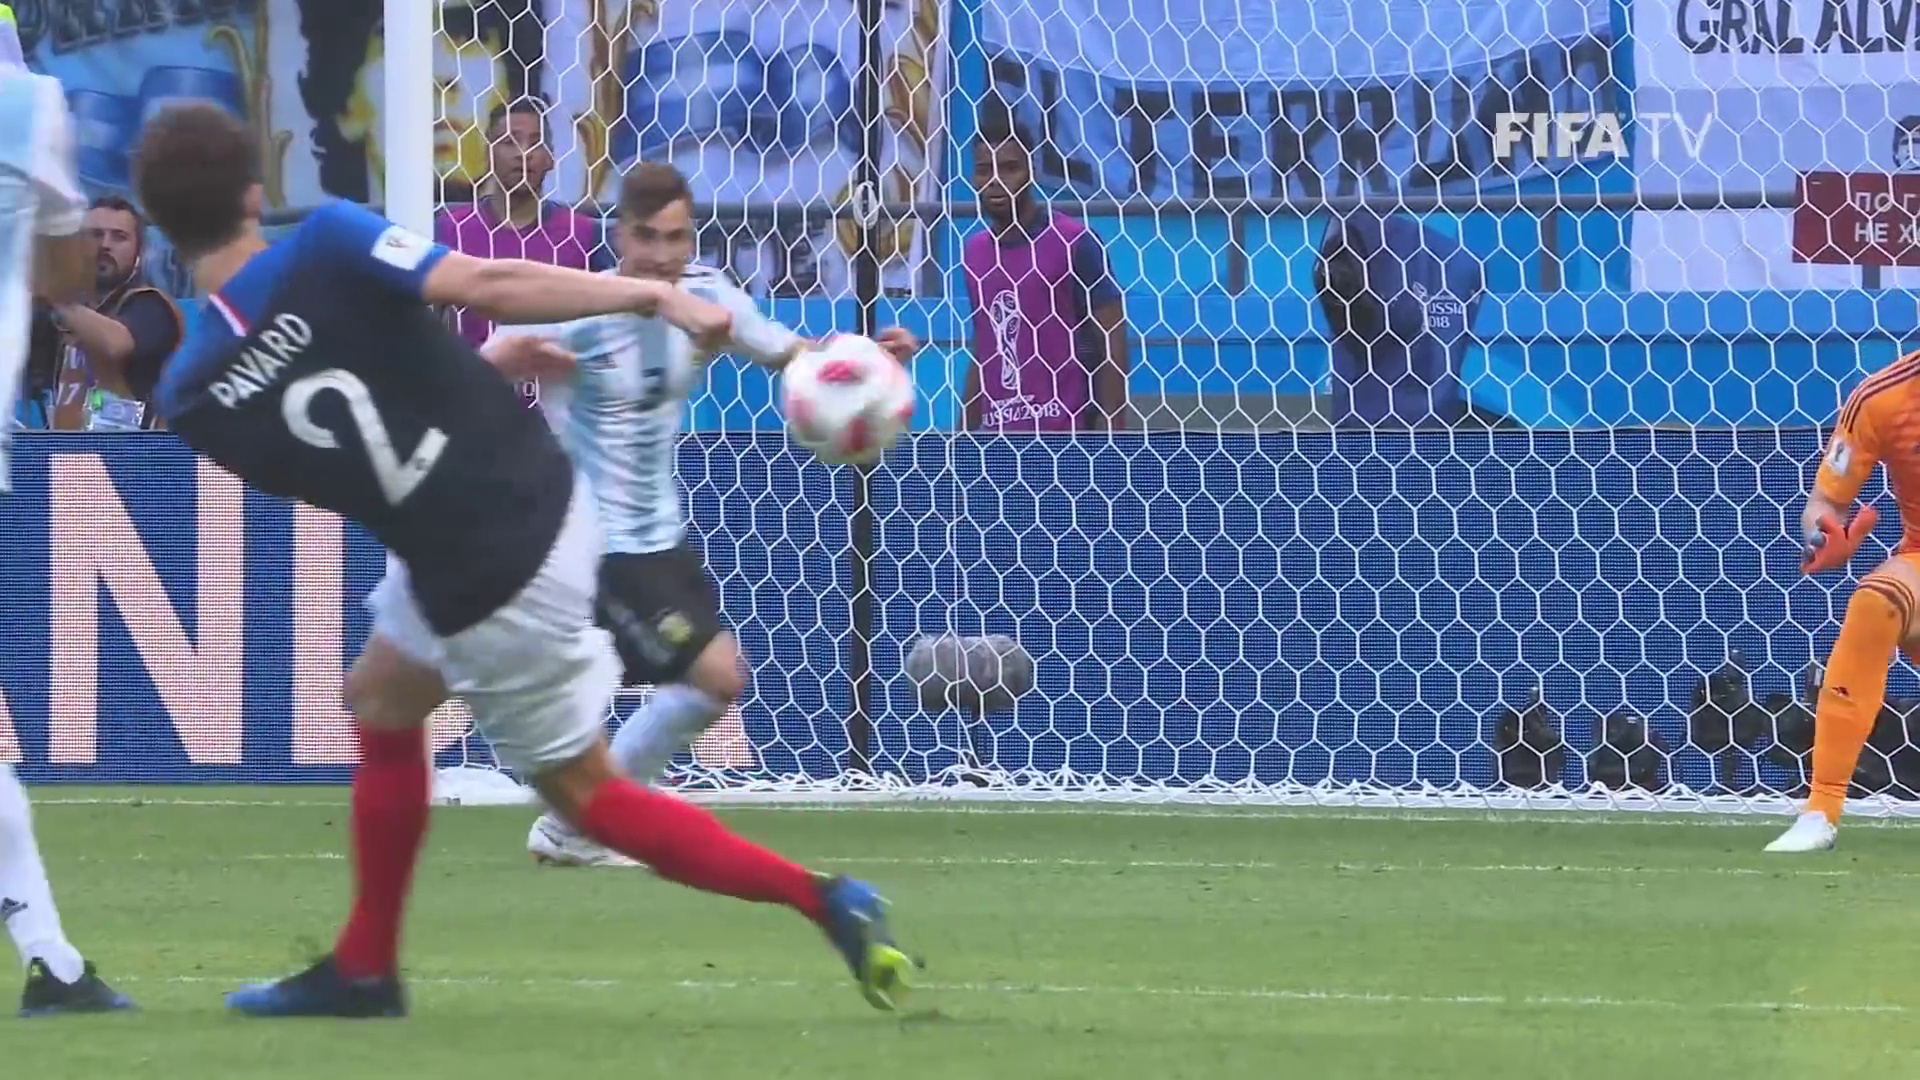ball: (779, 337, 910, 461)
person: (136, 94, 926, 1002), (507, 161, 763, 804)
